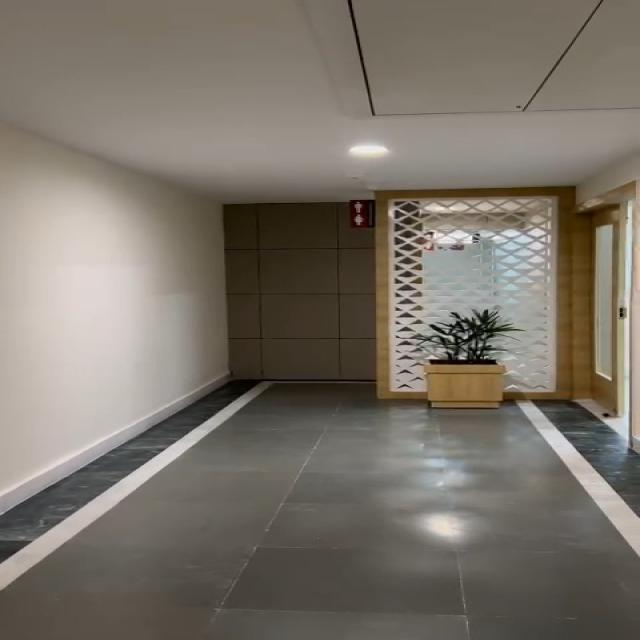door: (550, 192, 640, 401)
floor: (0, 521, 640, 640), (118, 405, 621, 526)
furniture: (420, 307, 516, 420)
wall: (0, 119, 244, 414)
